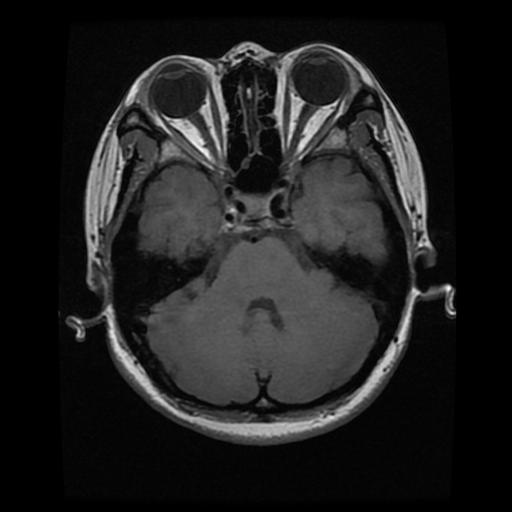Pituirity_tumour: (244, 197, 268, 218)
